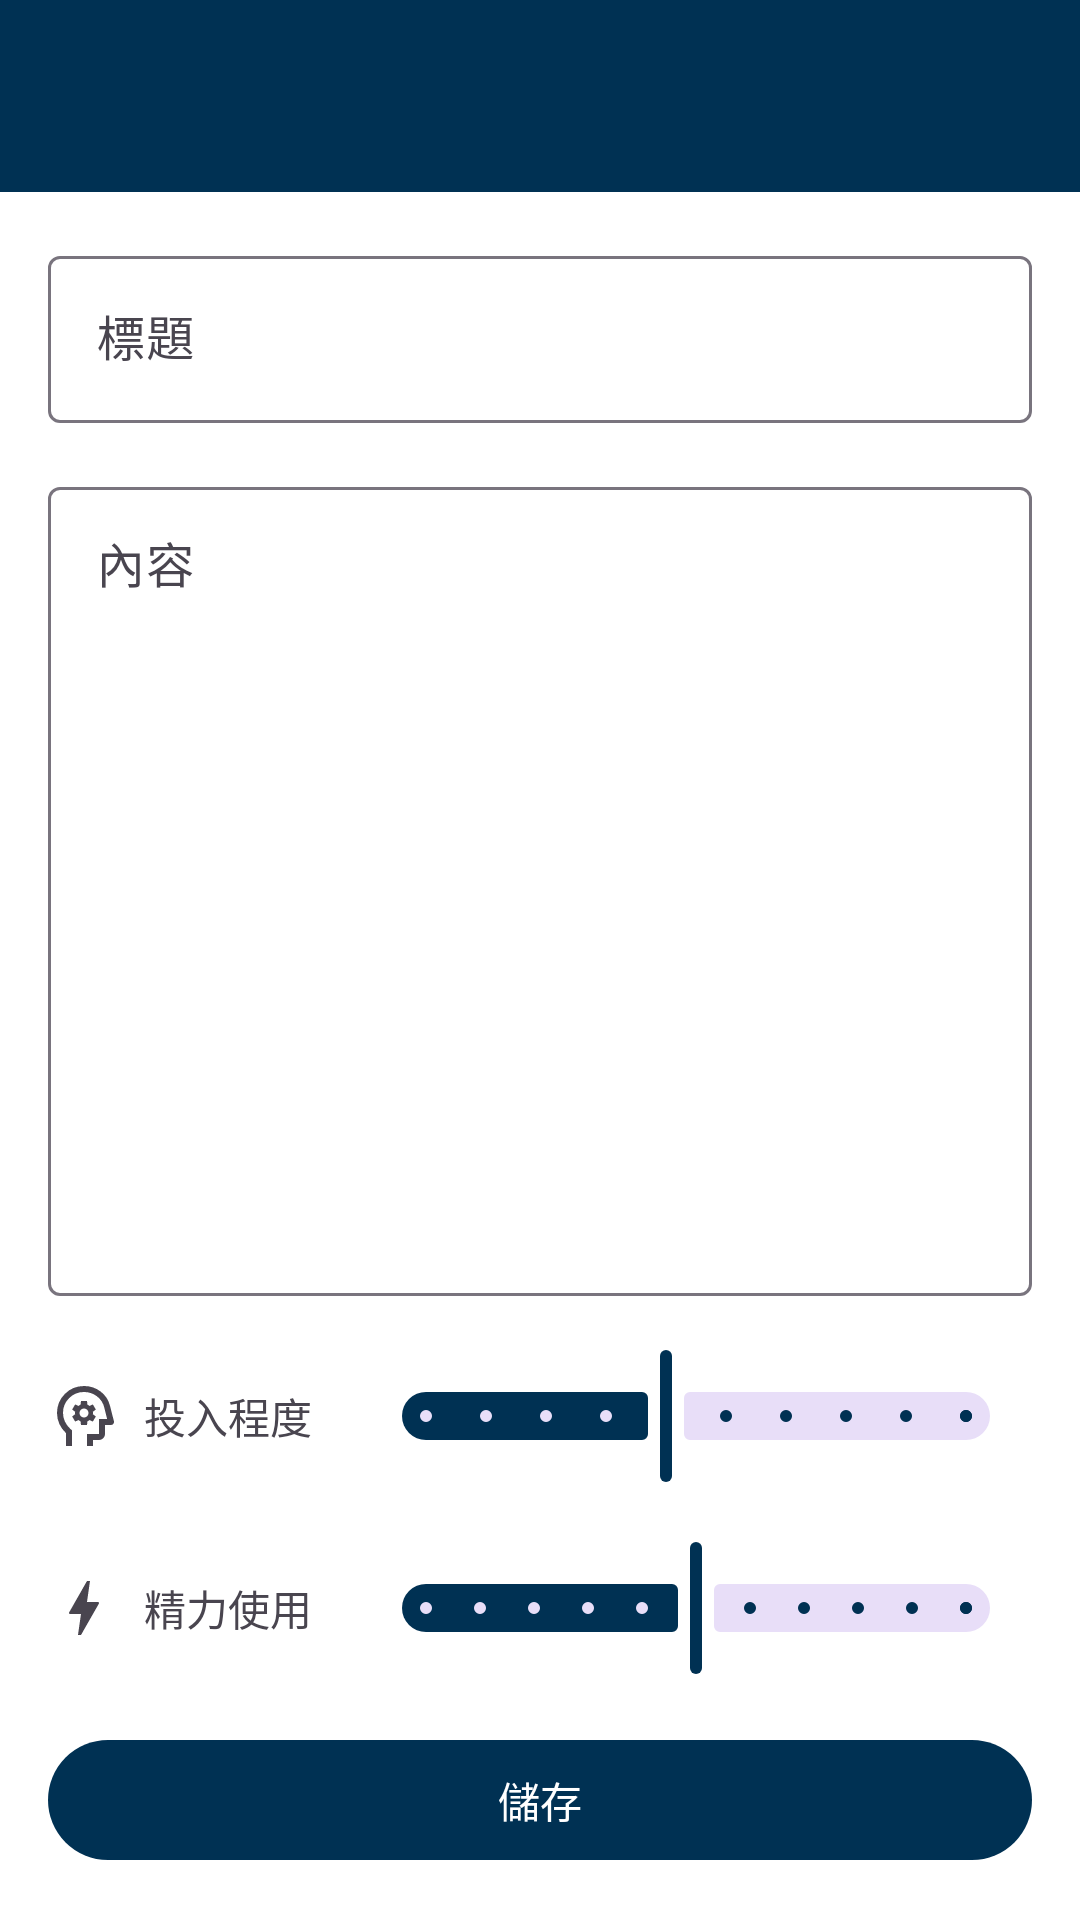

Screen size 1080x1920. Icon name, then its center in pixels as [x,y]:
bolt: [84,1608]
psychology: [85,1416]
